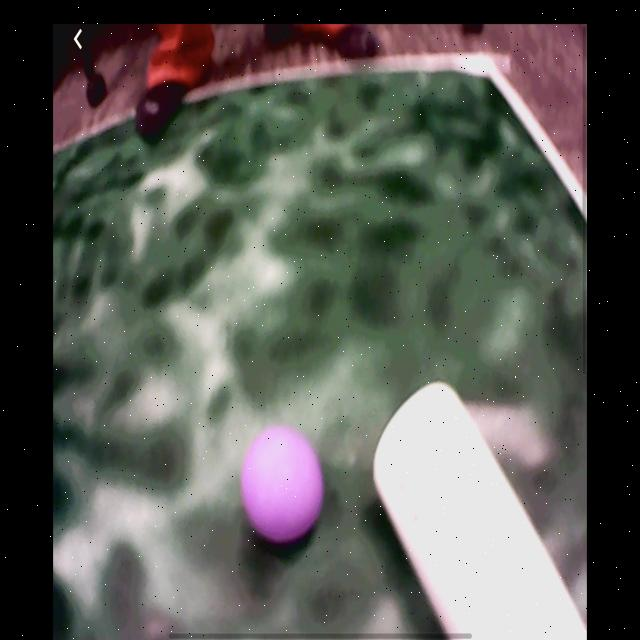ball: (240, 427, 328, 548)
